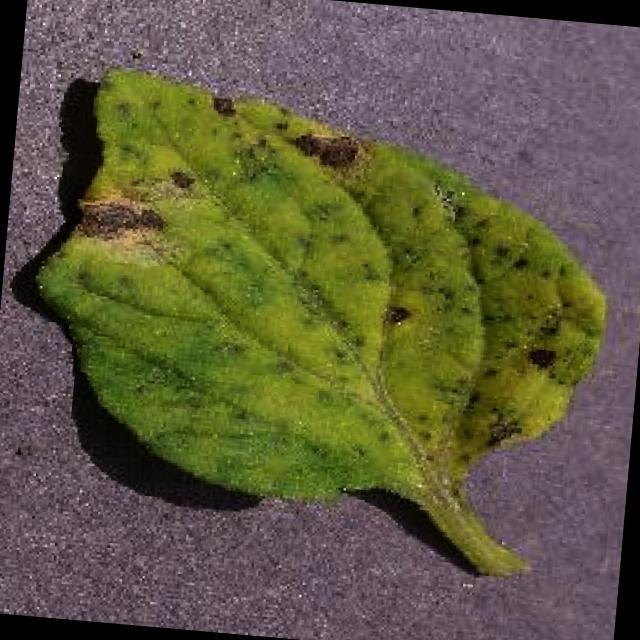Tomato Septoria spot leaf: (19, 66, 614, 522)
